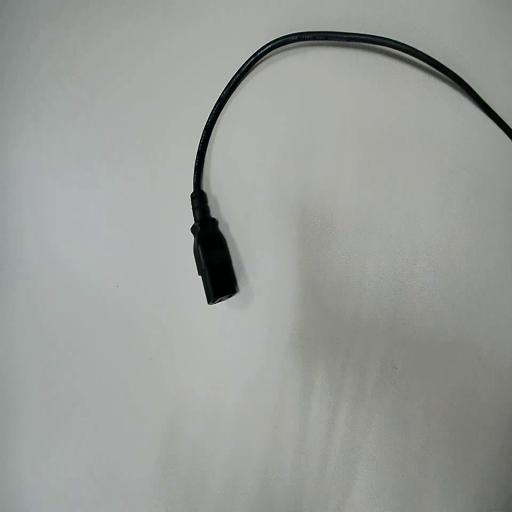wire: (192, 32, 511, 302)
